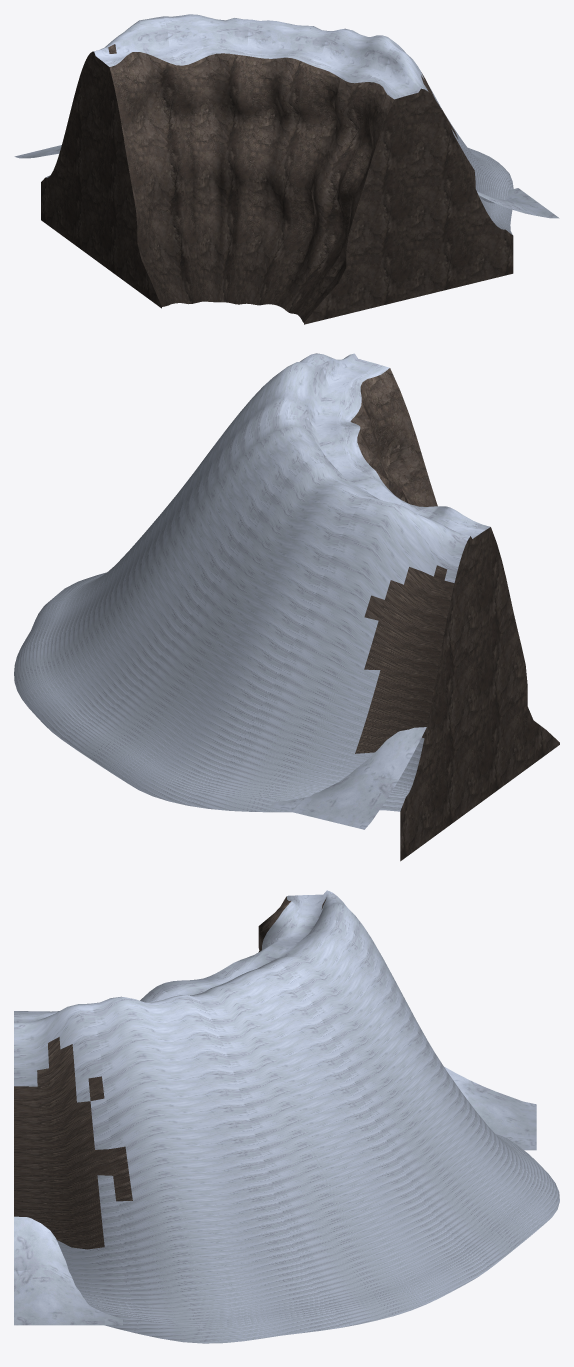
File: seacliff_inner_h5_v5_winter.glb
3 views of the same model, one above another, from view 1: azimuth 30°, elevation 25°; view 2: azimuth 150°, elevation 25°; view 3: azimuth 270°, elevation 25° (orthographic). The views are drawn at different scales.
Visible parts, largest first — view 1: seacliff_inner_h5; view 2: seacliff_inner_h5; view 3: seacliff_inner_h5.
Part boxes in pixels (x1,y1,x2,y2): seacliff_inner_h5: (14,14,559,324); seacliff_inner_h5: (14,353,559,861); seacliff_inner_h5: (14,890,559,1343).
Bounding box in the file's own units: 12.05 × 7.29 × 12.01.
2 materials, 2 textured.
